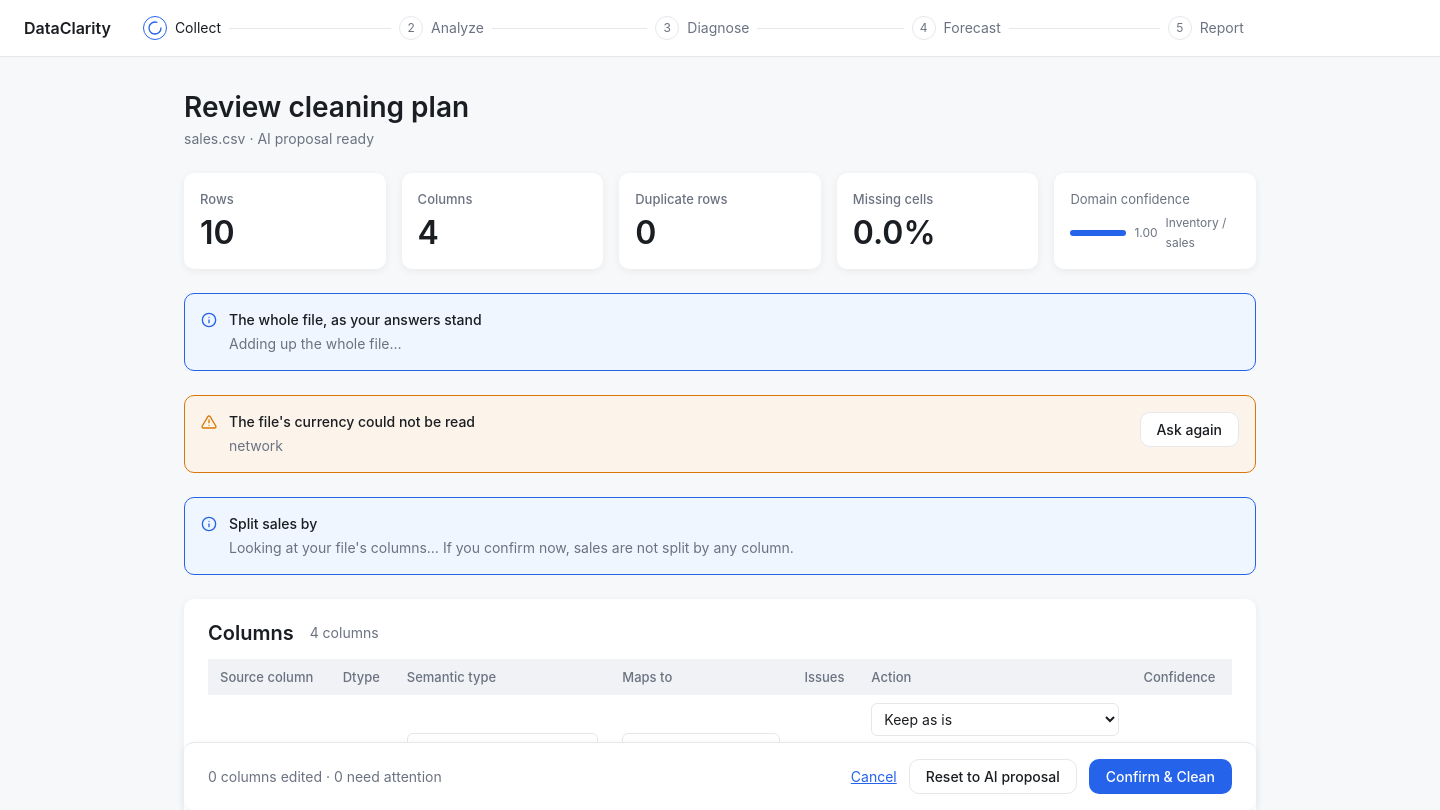
ReviewPage: asking again after an error (the scoped review) › shows the question on its way again, not the old error
This screenshot has width=1440, height=810.
Click the button "Ask again": (1189, 430) [1140,412,1239,447]
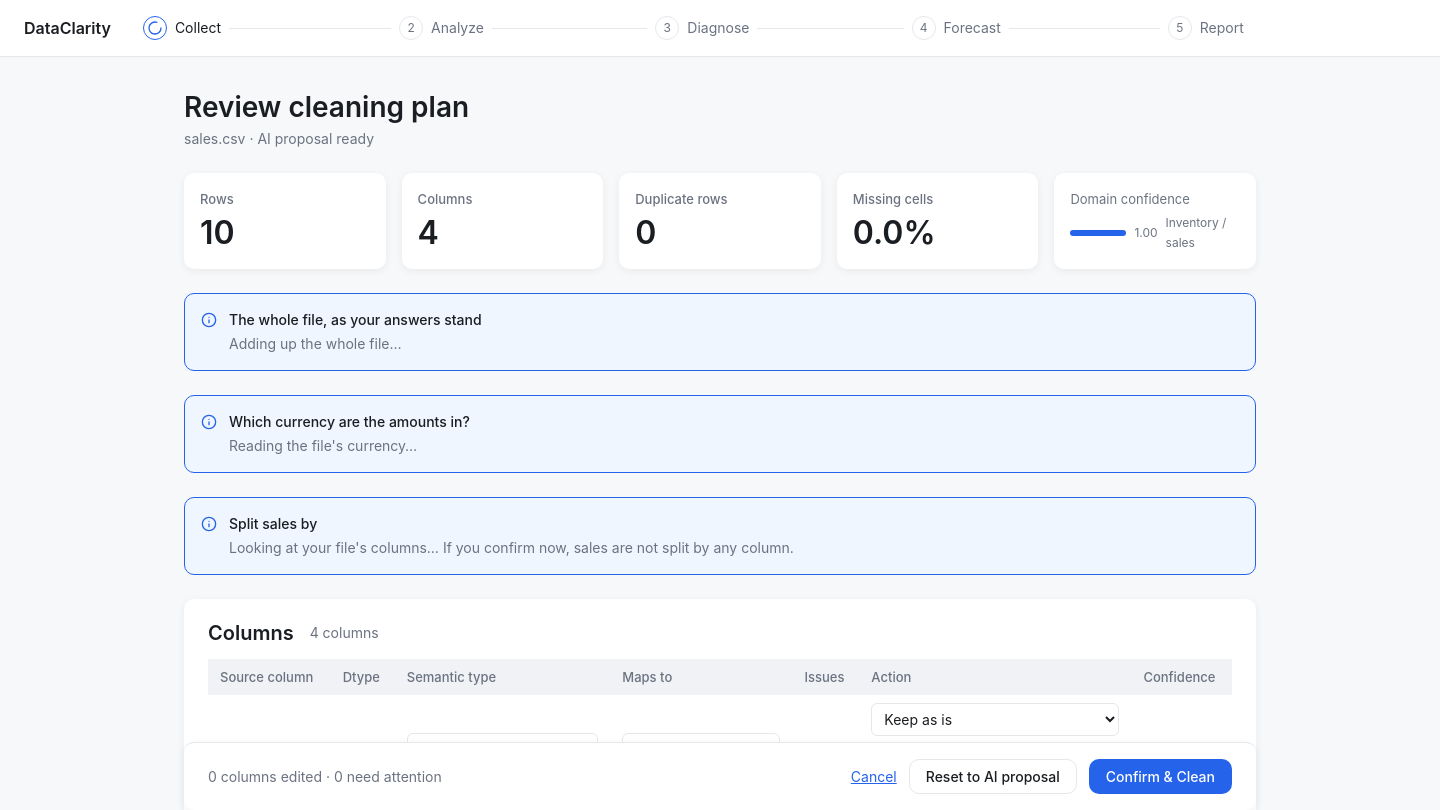
Check: the text "Reading the file's currency…" is shown, box [229,437,417,454]
Check: the button "Ask again" is gone
